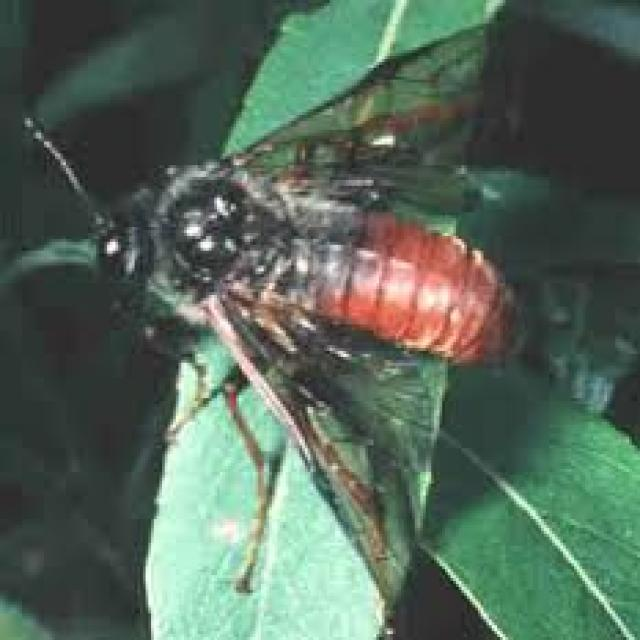Saw Fly: (26, 19, 557, 597)
